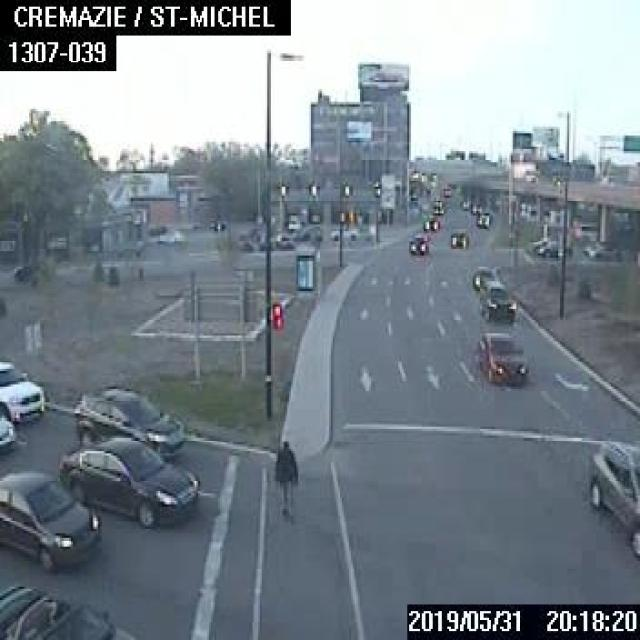pedestrian: (273, 438, 298, 516)
vehicle: (58, 434, 197, 531), (0, 470, 102, 572), (72, 385, 184, 461), (0, 581, 135, 639), (584, 436, 638, 560), (0, 355, 45, 422), (473, 327, 527, 380), (478, 278, 516, 320), (536, 238, 571, 256), (0, 411, 15, 453), (470, 264, 493, 290), (588, 243, 619, 259), (156, 228, 183, 246), (406, 231, 428, 253), (331, 224, 356, 238), (449, 229, 468, 247), (421, 213, 438, 231), (274, 232, 293, 248), (476, 209, 492, 227), (432, 196, 442, 212), (470, 200, 481, 213), (459, 197, 469, 209), (442, 185, 449, 195)
